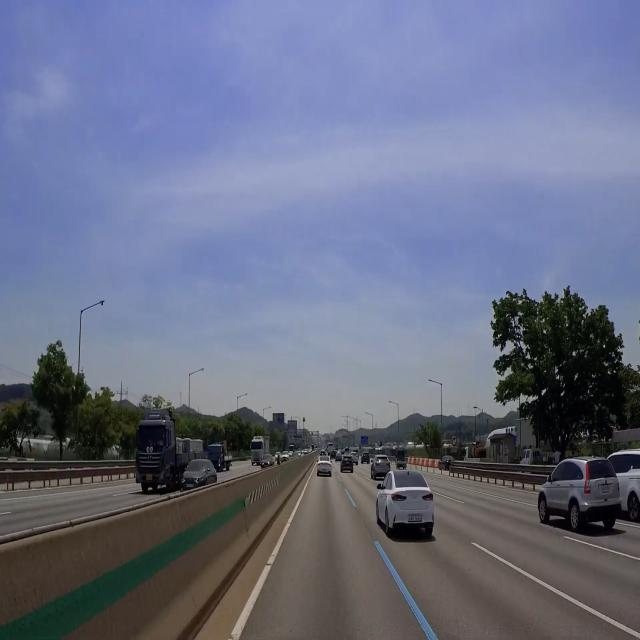car: (405, 508, 423, 527), (143, 472, 156, 487)
